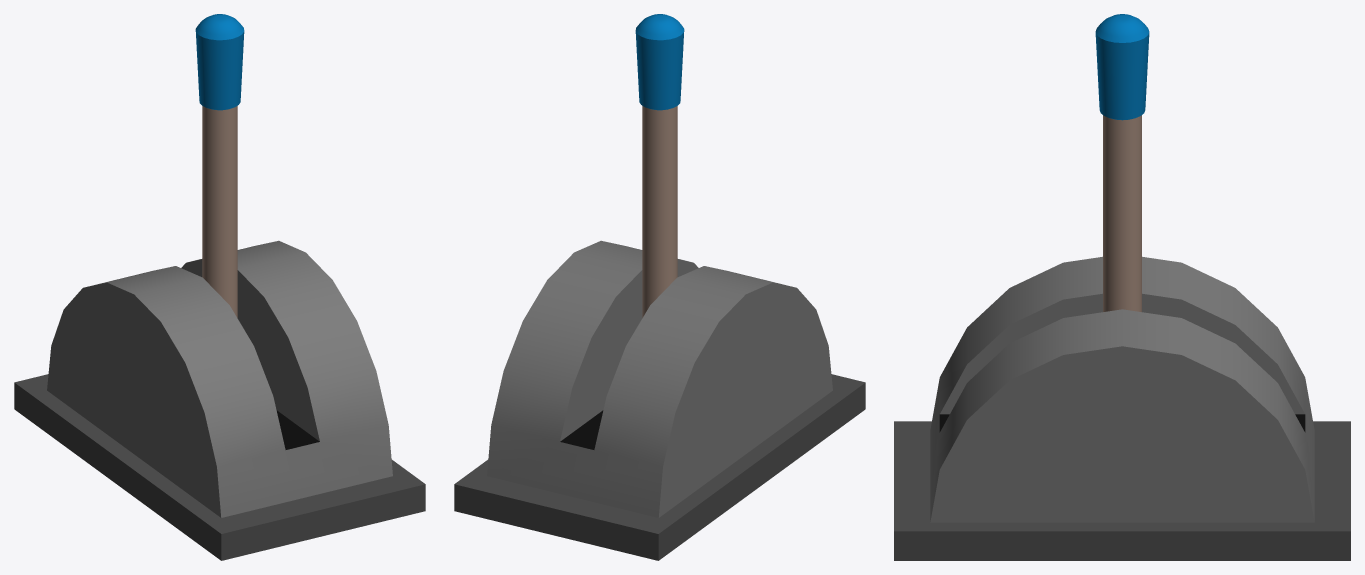
File: LeverFinalModel.fbx
The picture shows the model from 3 angles, left to right: view 1: azimuth 30°, elevation 25°; view 2: azimuth 150°, elevation 25°; view 3: azimuth 270°, elevation 25°; orthographic projection. The views are drawn at different scales.
Visible parts, largest first — view 1: LeverBody, LeverHandle1; view 2: LeverBody, LeverHandle1; view 3: LeverBody, LeverHandle1.
Part boxes in pixels (x1,y1,x2,y2): LeverBody: [14, 240, 425, 560]; LeverHandle1: [195, 14, 244, 317]; LeverBody: [454, 240, 865, 560]; LeverHandle1: [635, 14, 684, 317]; LeverBody: [894, 256, 1350, 560]; LeverHandle1: [1095, 14, 1149, 311].
Bounding box in the file's own units: 59.39 × 123 × 104.
